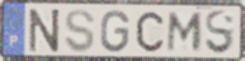C: (134, 10, 165, 54)
G: (99, 9, 131, 54)
M: (165, 11, 205, 53)
N: (28, 8, 62, 54)
S: (204, 9, 236, 56), (63, 9, 96, 54)
